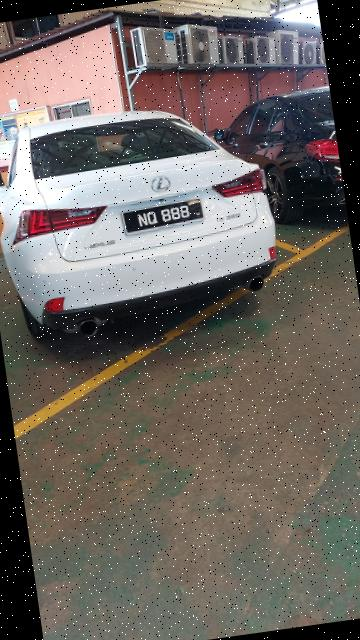License_Plate: (126, 201, 207, 233)
car: (1, 92, 287, 358)
